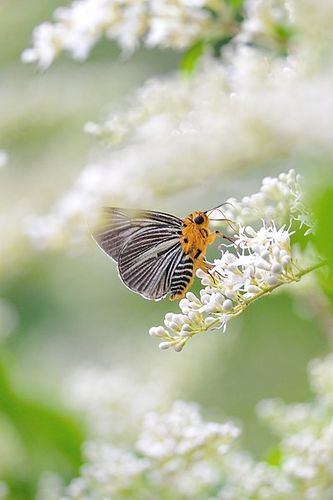Hesperiidae: (92, 188, 241, 303)
